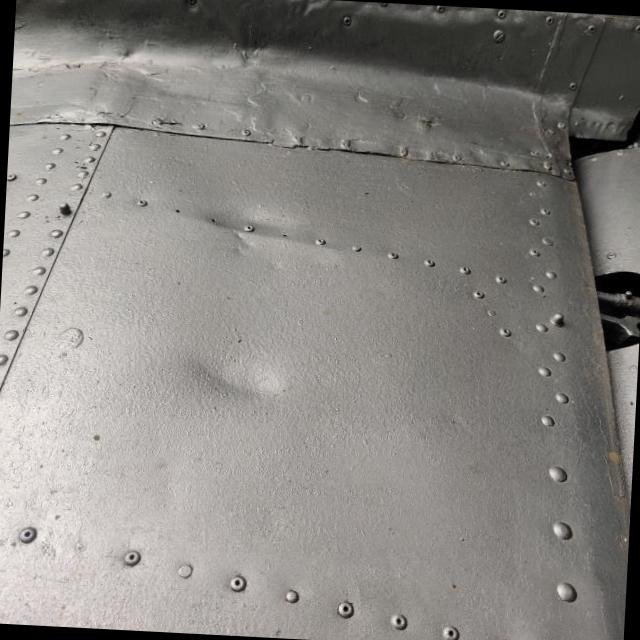Dent: (199, 163, 335, 273), (175, 310, 299, 427)
